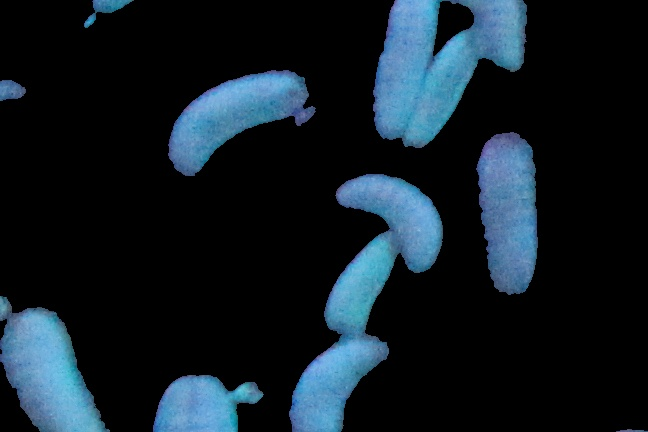larvae: (166, 69, 309, 179), (2, 304, 109, 432), (285, 331, 391, 432), (476, 131, 542, 293), (338, 174, 441, 274), (372, 1, 440, 140), (402, 27, 479, 149), (324, 228, 401, 335), (430, 1, 529, 75)
